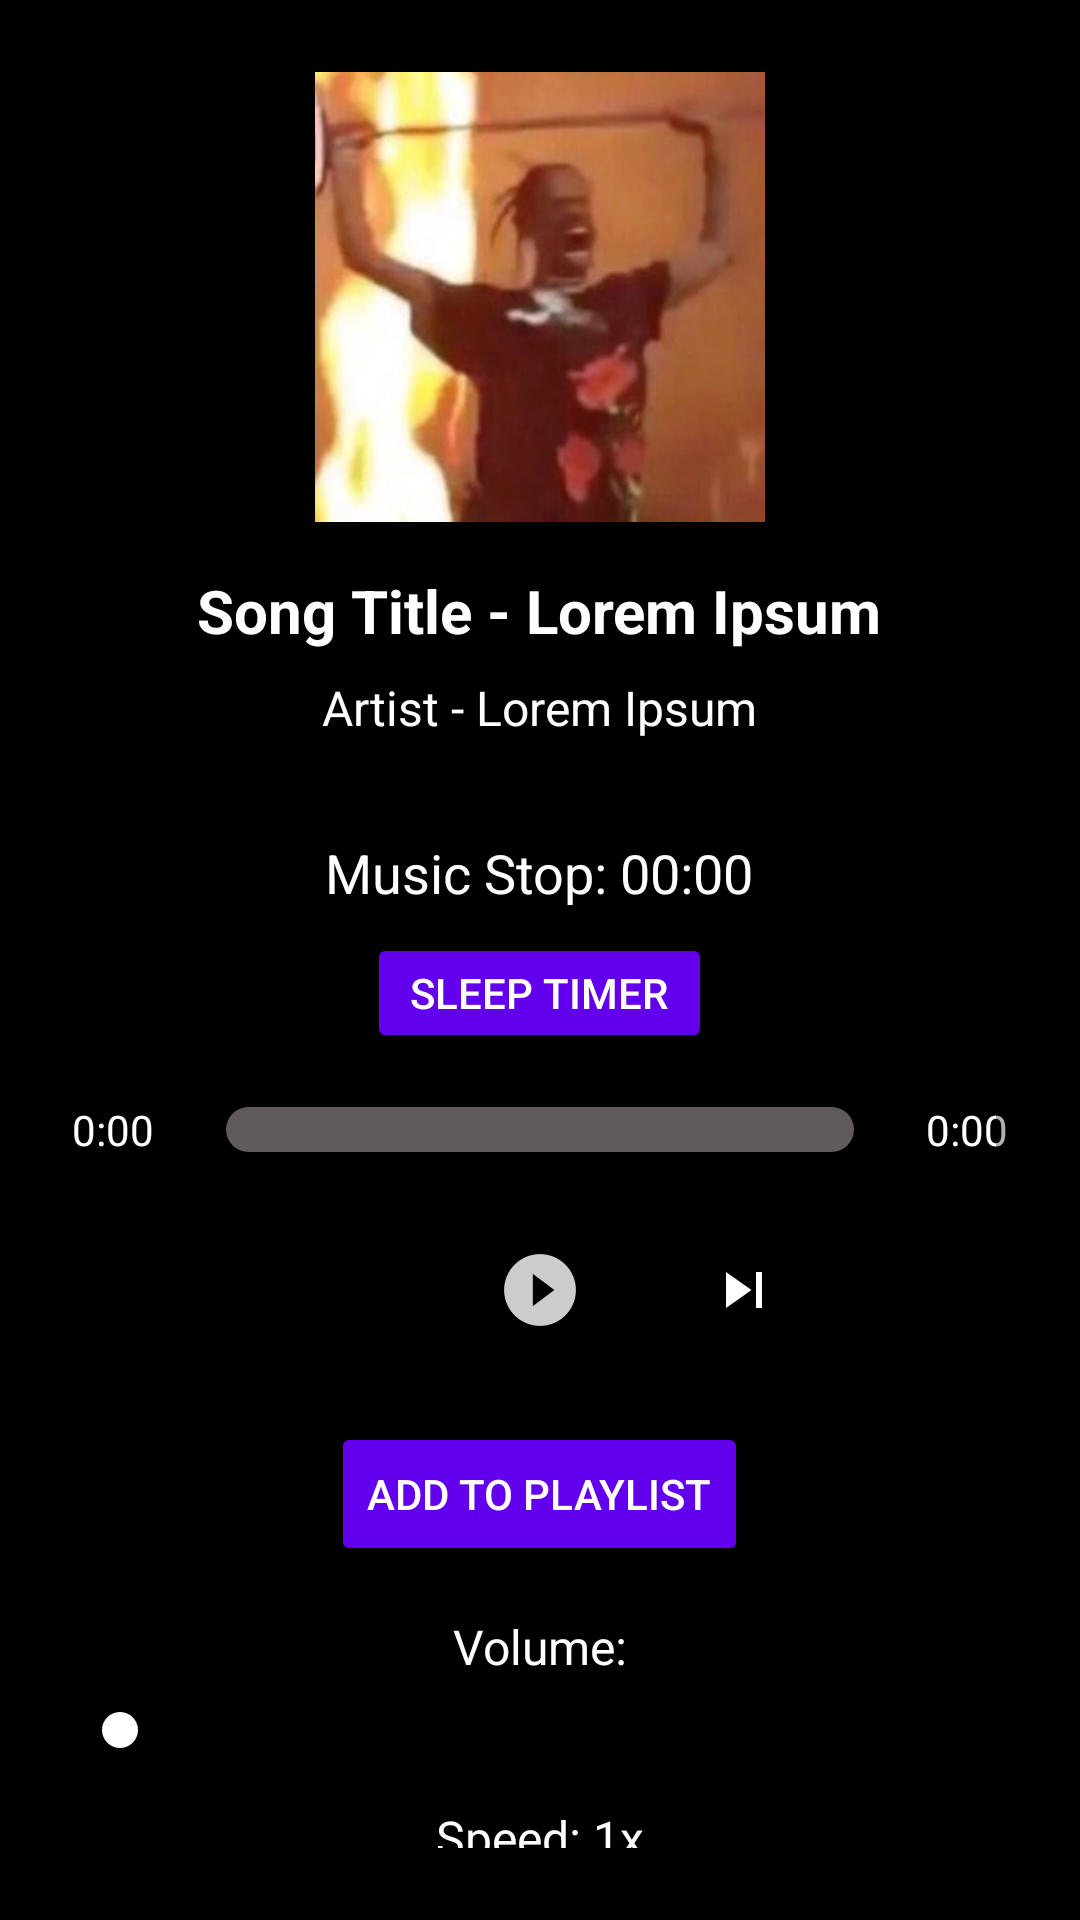

Where icons sit on this 1080 x 1920 app screen, as Rect(x1, y1, x2, y2):
Next: Rect(726, 1272, 762, 1308)
Play/Pause: Rect(504, 1254, 576, 1326)
